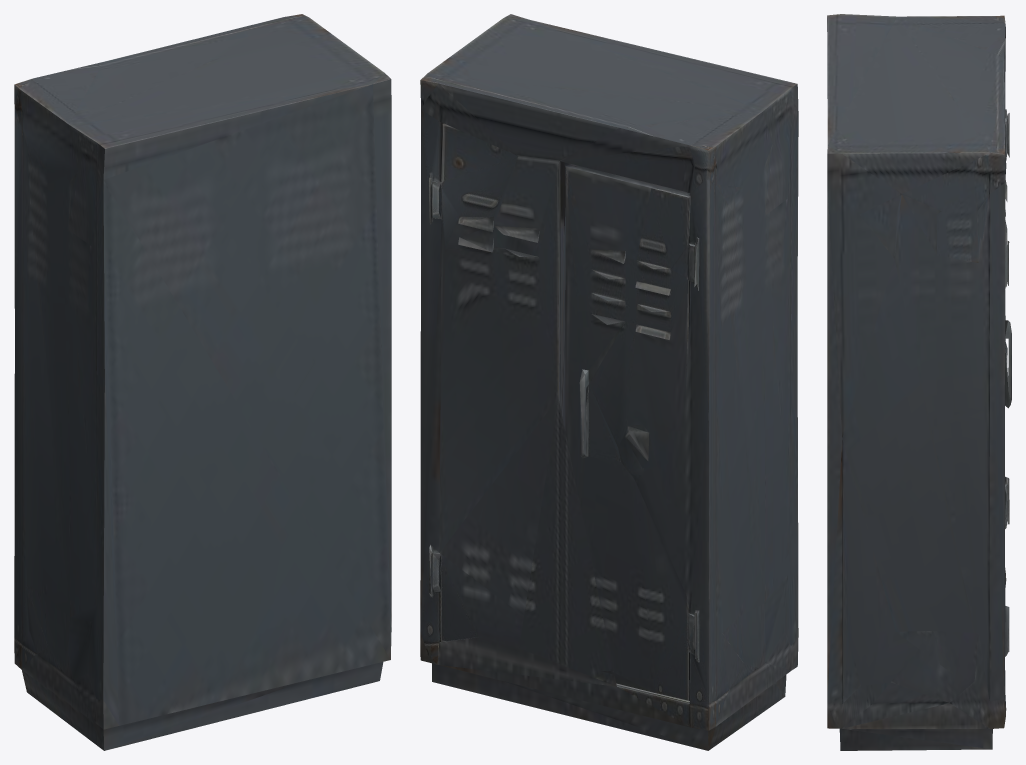
File: mj-locker-crew.glb
3 renders of one model, left to right at view 1: azimuth 30°, elevation 25°; view 2: azimuth 150°, elevation 25°; view 3: azimuth 270°, elevation 25°, orthographic.
Parts seen in each view (by area): view 1: mj-locker-crew; view 2: mj-locker-crew; view 3: mj-locker-crew.
Part boxes in pixels (x1,y1,x2,y2): mj-locker-crew: (14,14,391,750); mj-locker-crew: (420,14,798,750); mj-locker-crew: (827,14,1011,750).
Bounding box in the file's own units: 0.9008 × 1.8 × 0.4999.
Materials: 1 (1 with a texture image).
